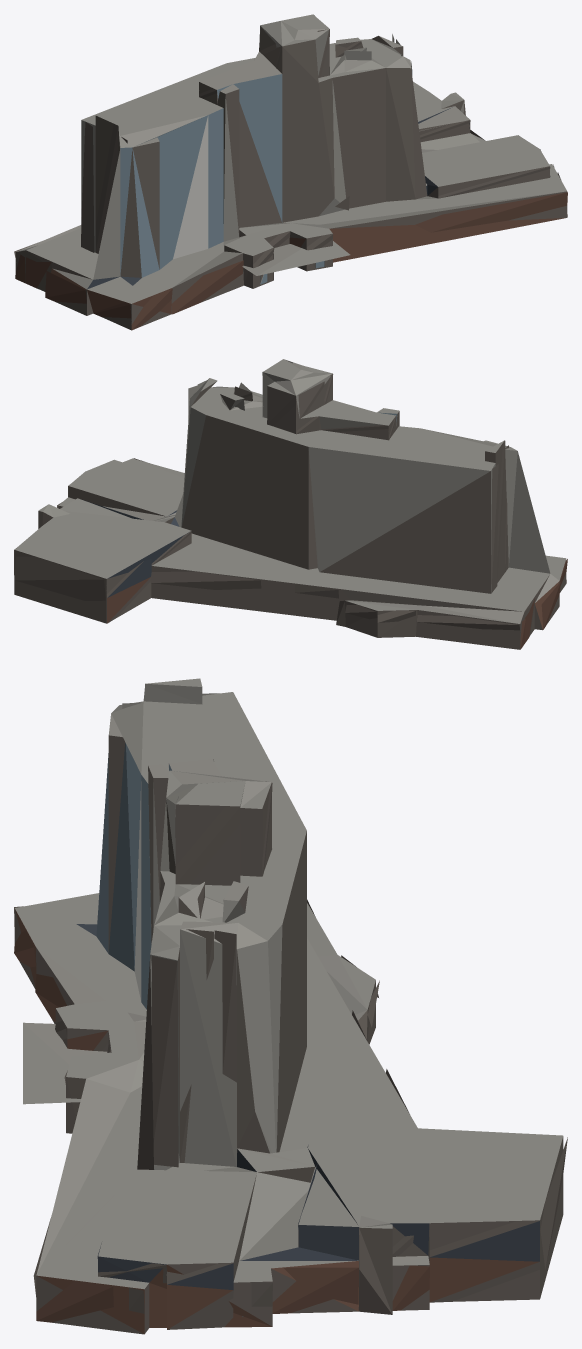
File: hilton-amsterdam.lod2.glb
3 views of the same model, one above another, from view 1: azimuth 30°, elevation 25°; view 2: azimuth 150°, elevation 25°; view 3: azimuth 270°, elevation 25° (orthographic). The views are drawn at different scales.
Parts seen in each view (by area): view 1: lod2; view 2: lod2; view 3: lod2.
Part boxes in pixels (bbox=[...]): lod2: bbox=[14, 14, 567, 330]; lod2: bbox=[14, 359, 567, 649]; lod2: bbox=[14, 678, 567, 1334].
Bounding box in the file's own units: 123 × 49.17 × 69.96.
